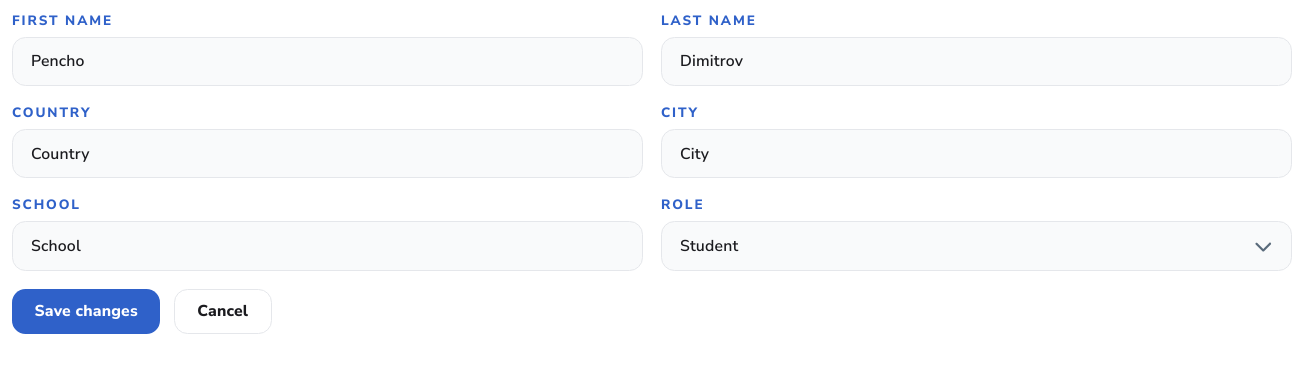
Scenario: UserEditForm › shows required errors for empty names
This screenshot has width=1304, height=375.
Clear the field labelled "First name". click: coordinates (328, 61)
box: left=12, top=37, right=643, bottom=86
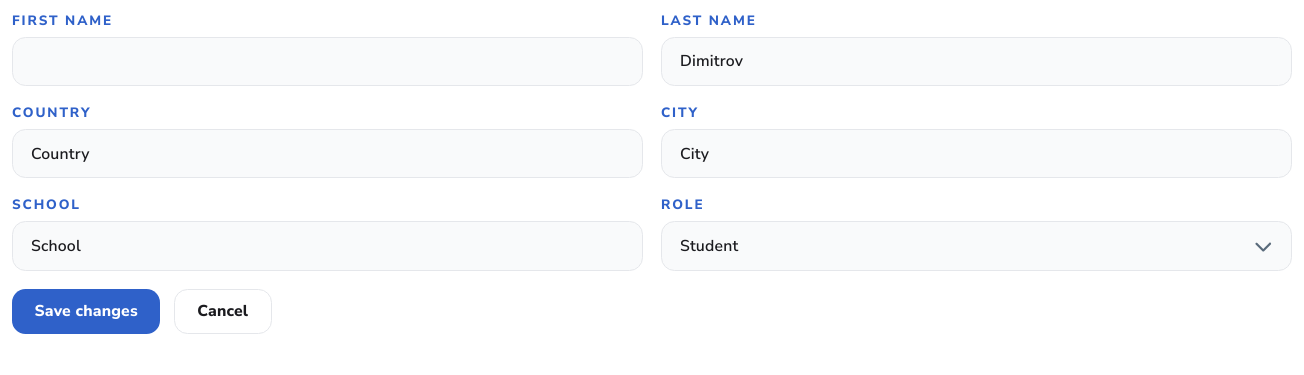
Clear the field labelled "Last name". click: coordinates (976, 61)
box: left=661, top=37, right=1292, bottom=86
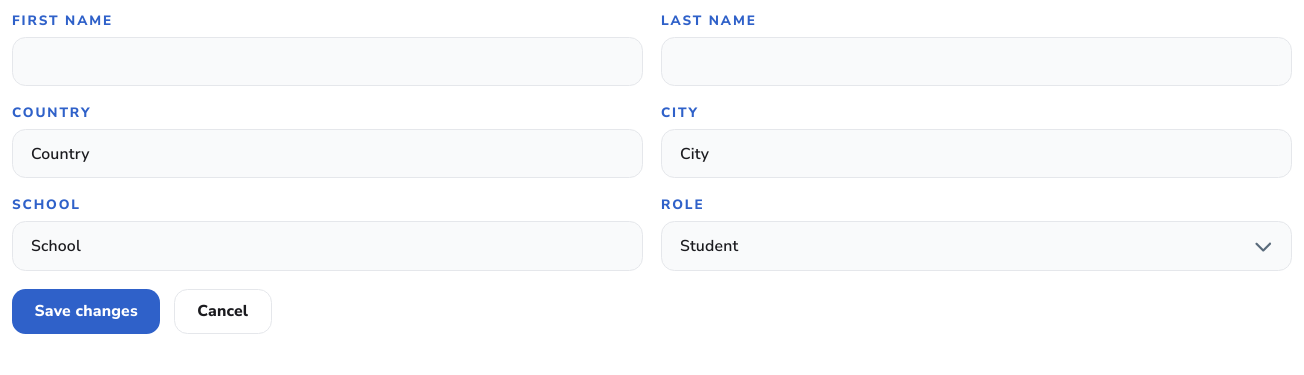
Click the button "Save changes". click: coordinates (86, 311)
box: left=12, top=289, right=160, bottom=334
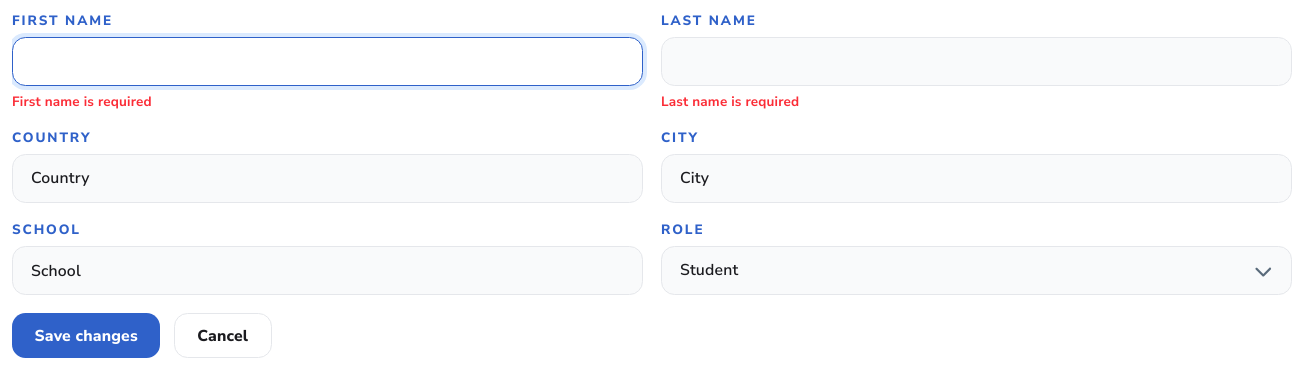
Now the text "First name is required" is shown, box left=12, top=92, right=152, bottom=111
Now the text "Last name is required" is shown, box left=661, top=92, right=799, bottom=111
